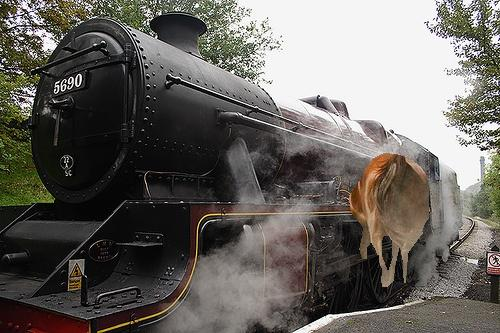tampered: (350, 154, 429, 287)
